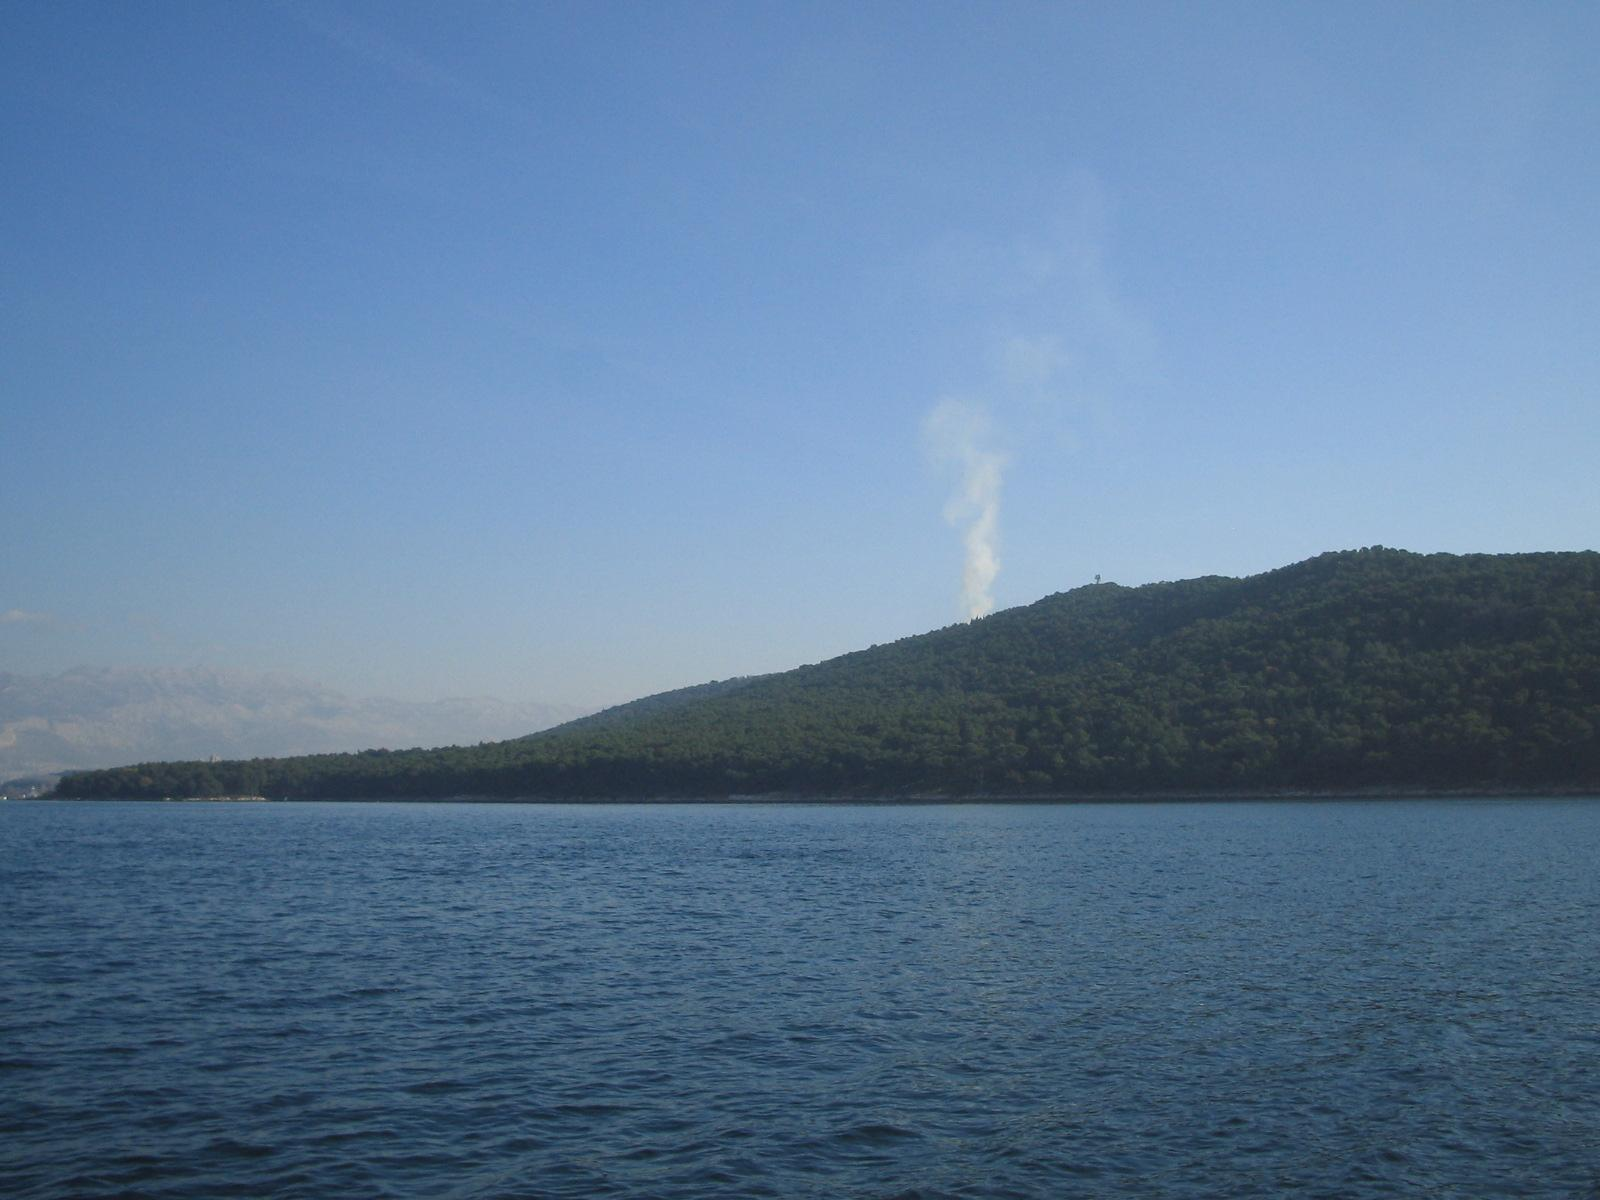Smoke: (911, 366, 1010, 626)
